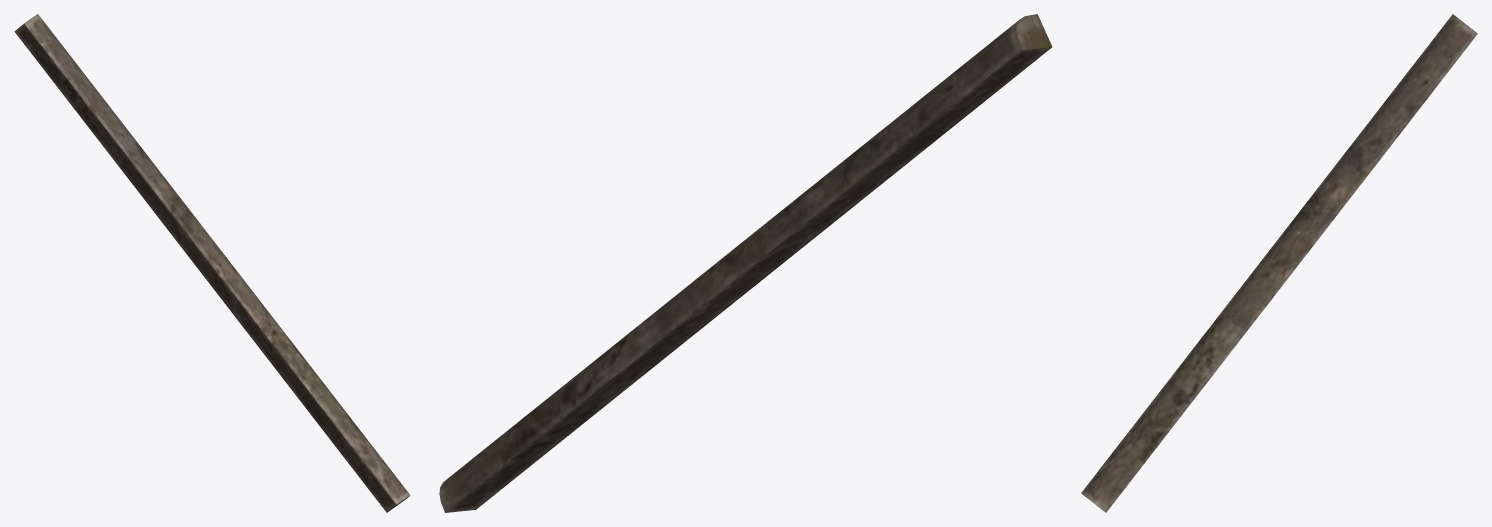
File: roof.triangle.jungle.up.right.line.glb
The picture shows the model from 3 angles, left to right: view 1: azimuth 30°, elevation 25°; view 2: azimuth 210°, elevation 25°; view 3: azimuth 270°, elevation 25°; orthographic projection. The views are drawn at different scales.
Parts seen in each view (by area): view 1: roof.triangle.jungle.up.right.line; view 2: roof.triangle.jungle.up.right.line; view 3: roof.triangle.jungle.up.right.line.
Boxes of the visible parts, x1=… form: roof.triangle.jungle.up.right.line: x1=14, y1=14, x2=410, y2=512; roof.triangle.jungle.up.right.line: x1=439, y1=14, x2=1052, y2=512; roof.triangle.jungle.up.right.line: x1=1081, y1=14, x2=1477, y2=512.
Size of the model in its own units: 1.69 by 3.14 by 2.78.
1 material, 1 textured.
